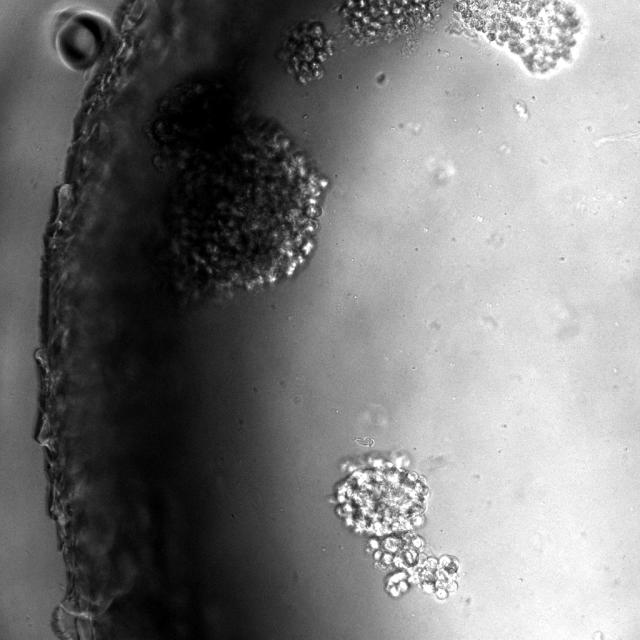organoid: (149, 80, 328, 300), (330, 452, 459, 599), (447, 0, 588, 76), (334, 0, 441, 44), (279, 19, 333, 83)
